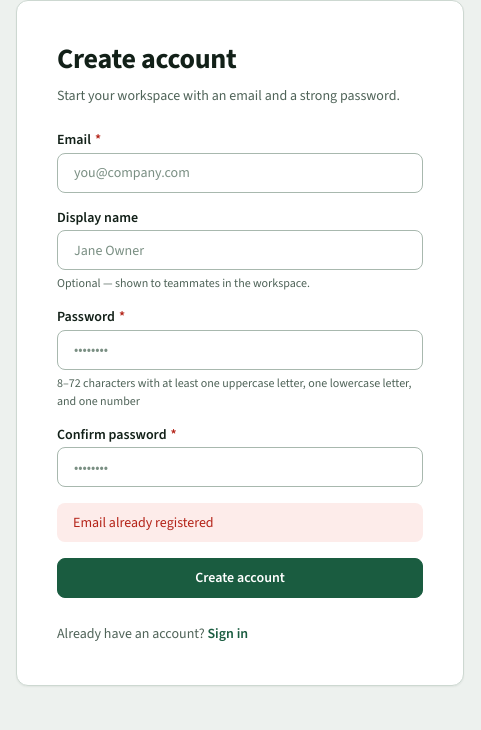
Test: RegisterForm › shows server errors and clears field errors on edit
Expected: the message reads "Email already registered", [73,513,214,532]
Step 1. Click the button "Create account" → (240, 578), box [57,558,423,598]
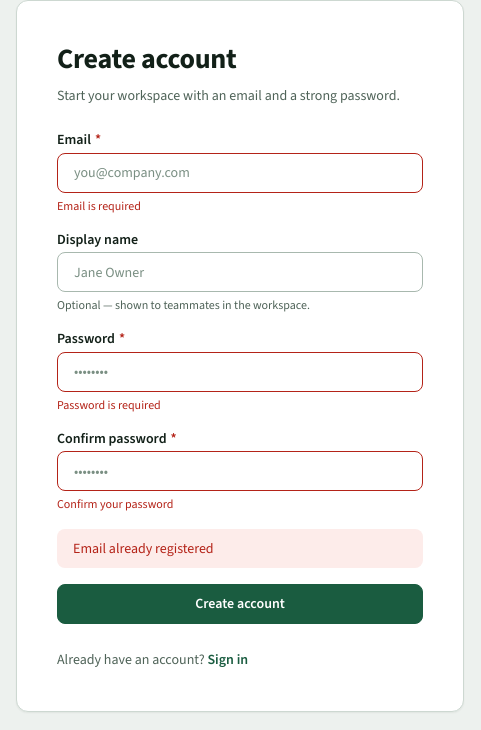
Expected: the text "Email is required" is shown, [57,198,141,214]
Step 2. Type "owner@company.com" into the field labelled "Email*" → (240, 173), box [57,153,423,193]
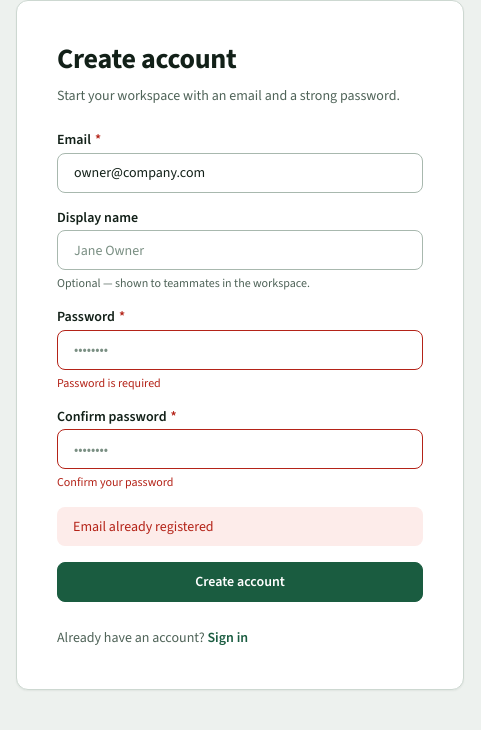
Expected: the text "Email is required" is gone
